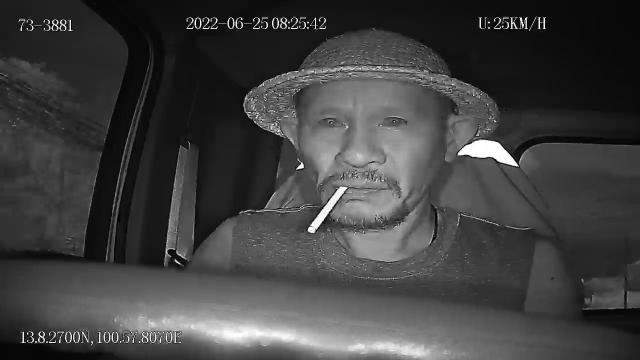SafeDriving: (370, 107, 414, 133), (312, 108, 352, 133)
Smoking: (308, 186, 348, 234)
